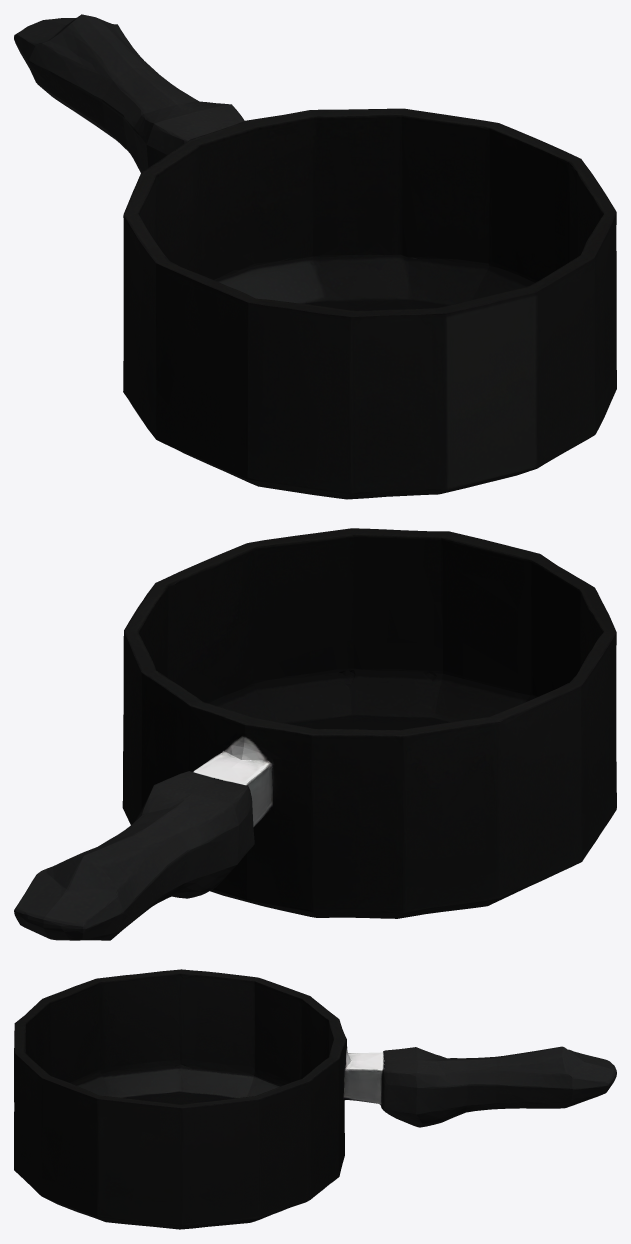
The model's file is saucepan.glb.
3 views of the same model, one above another, from view 1: azimuth 30°, elevation 25°; view 2: azimuth 150°, elevation 25°; view 3: azimuth 270°, elevation 25° (orthographic). The views are drawn at different scales.
Parts seen in each view (by area): view 1: world; view 2: world; view 3: world.
Part boxes in pixels (x1,y1,x2,y2): world: [14, 14, 616, 499]; world: [14, 528, 616, 940]; world: [14, 969, 616, 1229].
Size of the model in its own units: 0.543 by 0.2376 by 0.9962.
1 material, 1 textured.
